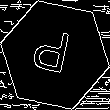P_S: (32, 27, 78, 83)
